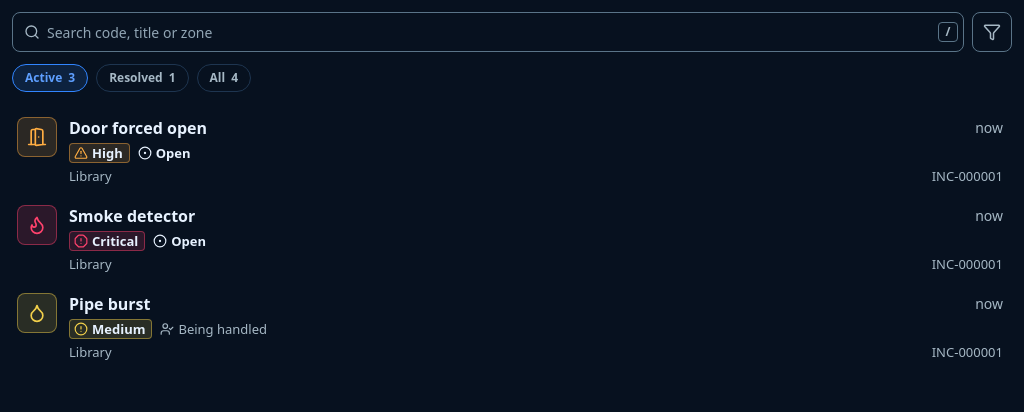
Test case: IncidentFeed › category filter › lists only the incidents of the chosen category, with a chip and the tab counts following
Expected: the tab "Active 3" is shown, [12, 64, 88, 92]
Click the button named "Filter by category" at (992, 32), box [972, 12, 1012, 52]
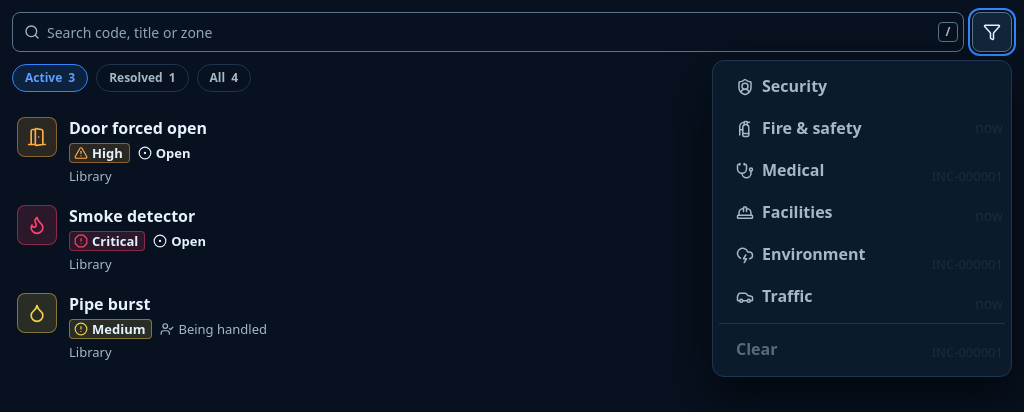
Click the button "Security" at (795, 86), box [719, 67, 1005, 107]
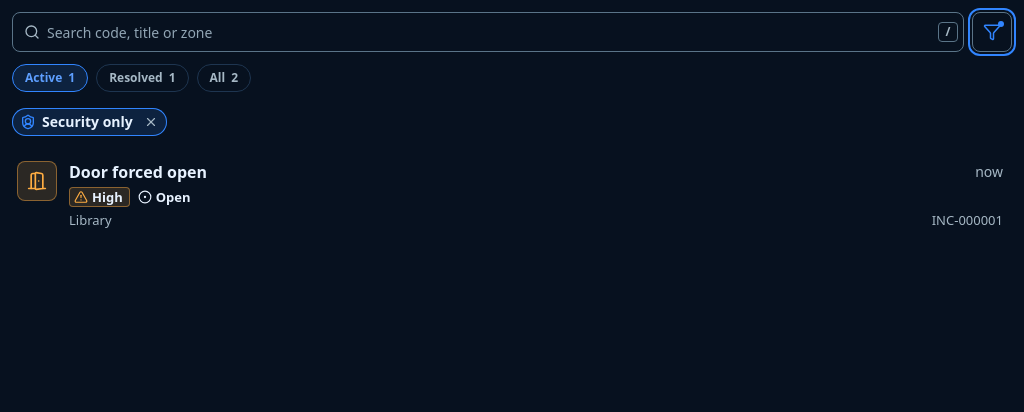
Expected: the button "Smoke detector" is gone
Expected: the button "Pipe burst" is gone
Expected: the text "Security only" is shown, [12, 108, 167, 136]
